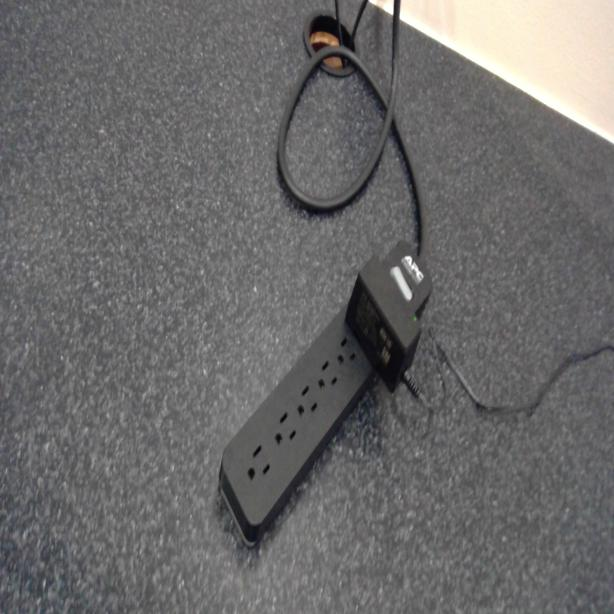typeb: (241, 436, 275, 485), (272, 407, 299, 449), (293, 381, 319, 419), (314, 359, 340, 393), (336, 330, 358, 368)
